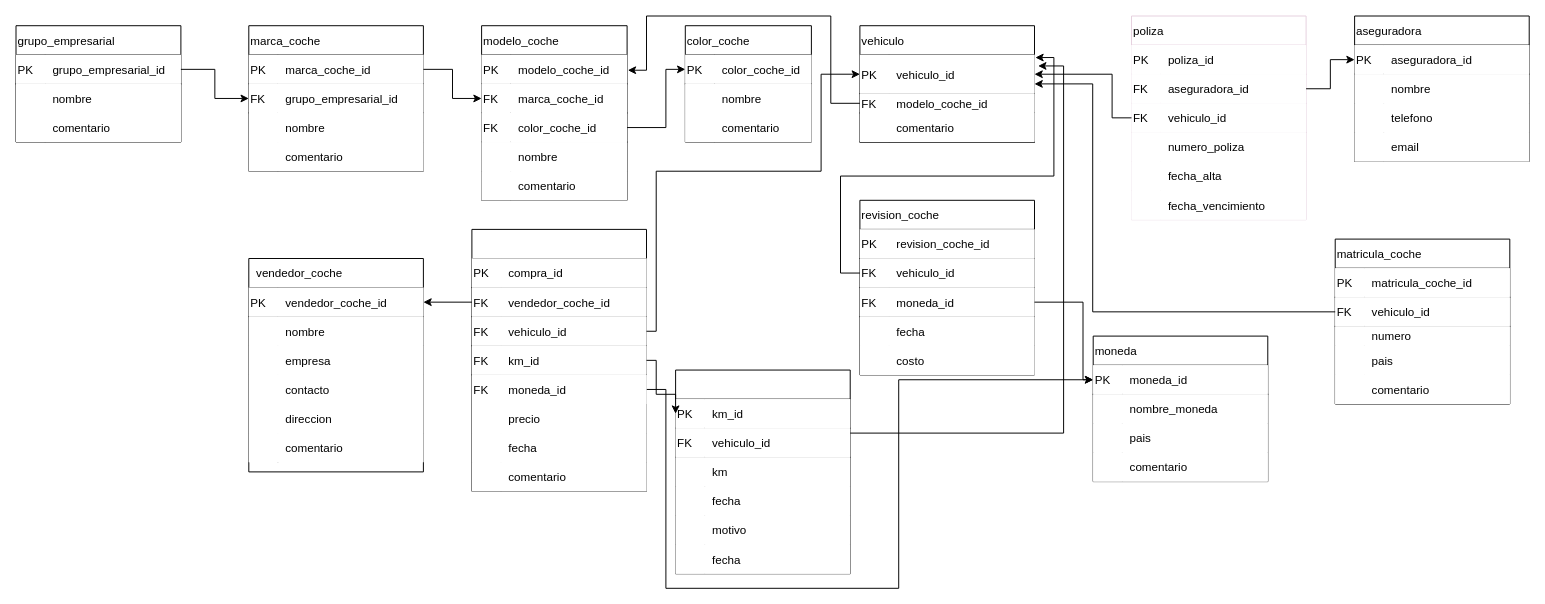
The diagram is 1545 pixels wide and 604 high, and some of its shapes have lost their labels. Each missing label, with the box of its shape:
compra_coche: (471, 228, 647, 491)
medidor_km: (675, 369, 850, 574)
